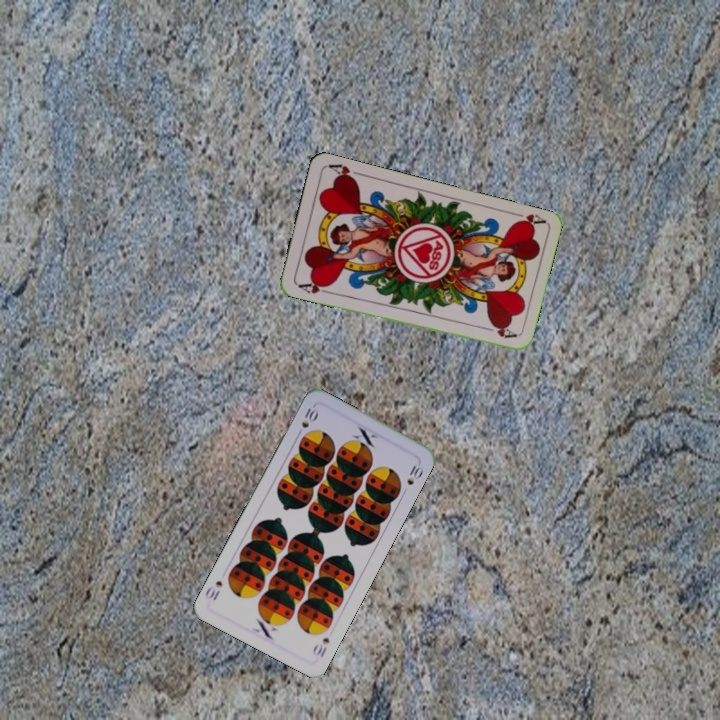HA: (507, 207, 547, 230), (294, 277, 334, 296)
S10: (293, 402, 321, 439), (309, 633, 332, 660)
